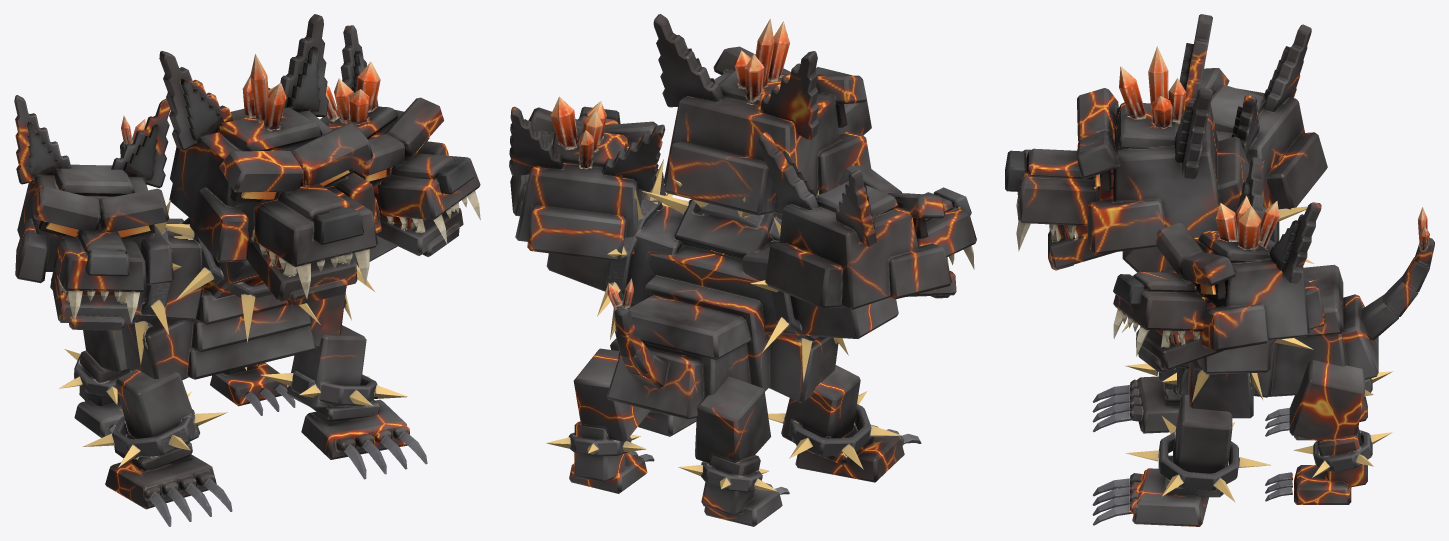
File: CerbereInfernal_Rig.fbx
3 renders of one model, left to right at view 1: azimuth 30°, elevation 25°; view 2: azimuth 150°, elevation 25°; view 3: azimuth 270°, elevation 25°, orthographic.
Parts seen in each view (by area): view 1: Head0, Head1, Body, Head2, LegFR, LegFL, LegBR, Jaw0, LegBL, Jaw1, Jaw2; view 2: Body, Head0, Head1, Head2, LegBR, LegFR, LegBL, Tail, LegFL; view 3: Head0, Head2, Body, LegFL, Head1, LegBL, LegFR, Tail, Jaw2, Jaw0, LegBR.
Part boxes in pixels (x1,y1,x2,y2): Head0: (159,14,378,299); Head1: (14,95,174,322); Body: (50,199,397,380); Head2: (268,25,480,243); LegFR: (82,369,232,526); LegFL: (260,325,427,479); LegBR: (58,330,131,437); Jaw0: (246,232,357,306); LegBL: (210,362,295,415); Jaw1: (51,271,135,330); Jaw2: (376,205,463,256); Body: (546,159,898,419); Head0: (653,14,871,215); Head1: (758,132,976,309); Head2: (509,96,665,261); LegBR: (678,376,789,526); LegFR: (768,365,921,482); LegBL: (545,348,654,493); Tail: (607,278,668,388); LegFL: (610,338,696,436); Head0: (1005,14,1249,254); Head2: (1113,157,1325,356); Body: (1121,160,1378,418); LegFL: (1092,395,1271,526); Head1: (1200,24,1327,209); LegBL: (1265,360,1392,504); LegFR: (1092,363,1181,433); Tail: (1360,207,1434,340); Jaw2: (1136,329,1223,373); Jaw0: (1048,224,1115,270); LegBR: (1265,371,1392,440).
Bounding box in the file's own units: 14.2 × 13 × 12.25.
3 materials, 3 textured.
